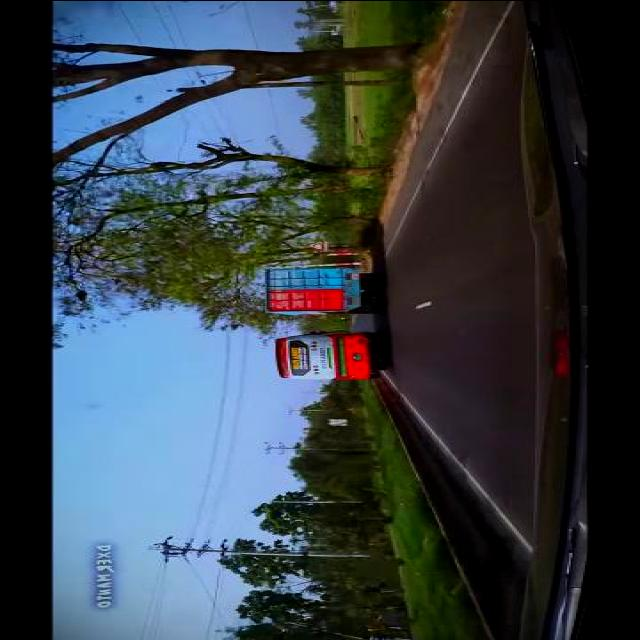bus: (272, 329, 380, 378)
truck: (260, 265, 376, 313)
